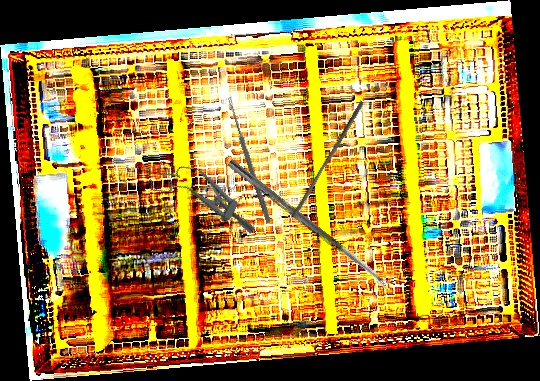Pusher: (291, 97, 365, 221)
Speculum: (143, 149, 268, 243)
Surgical Spoon: (226, 159, 391, 290), (225, 96, 273, 224)
